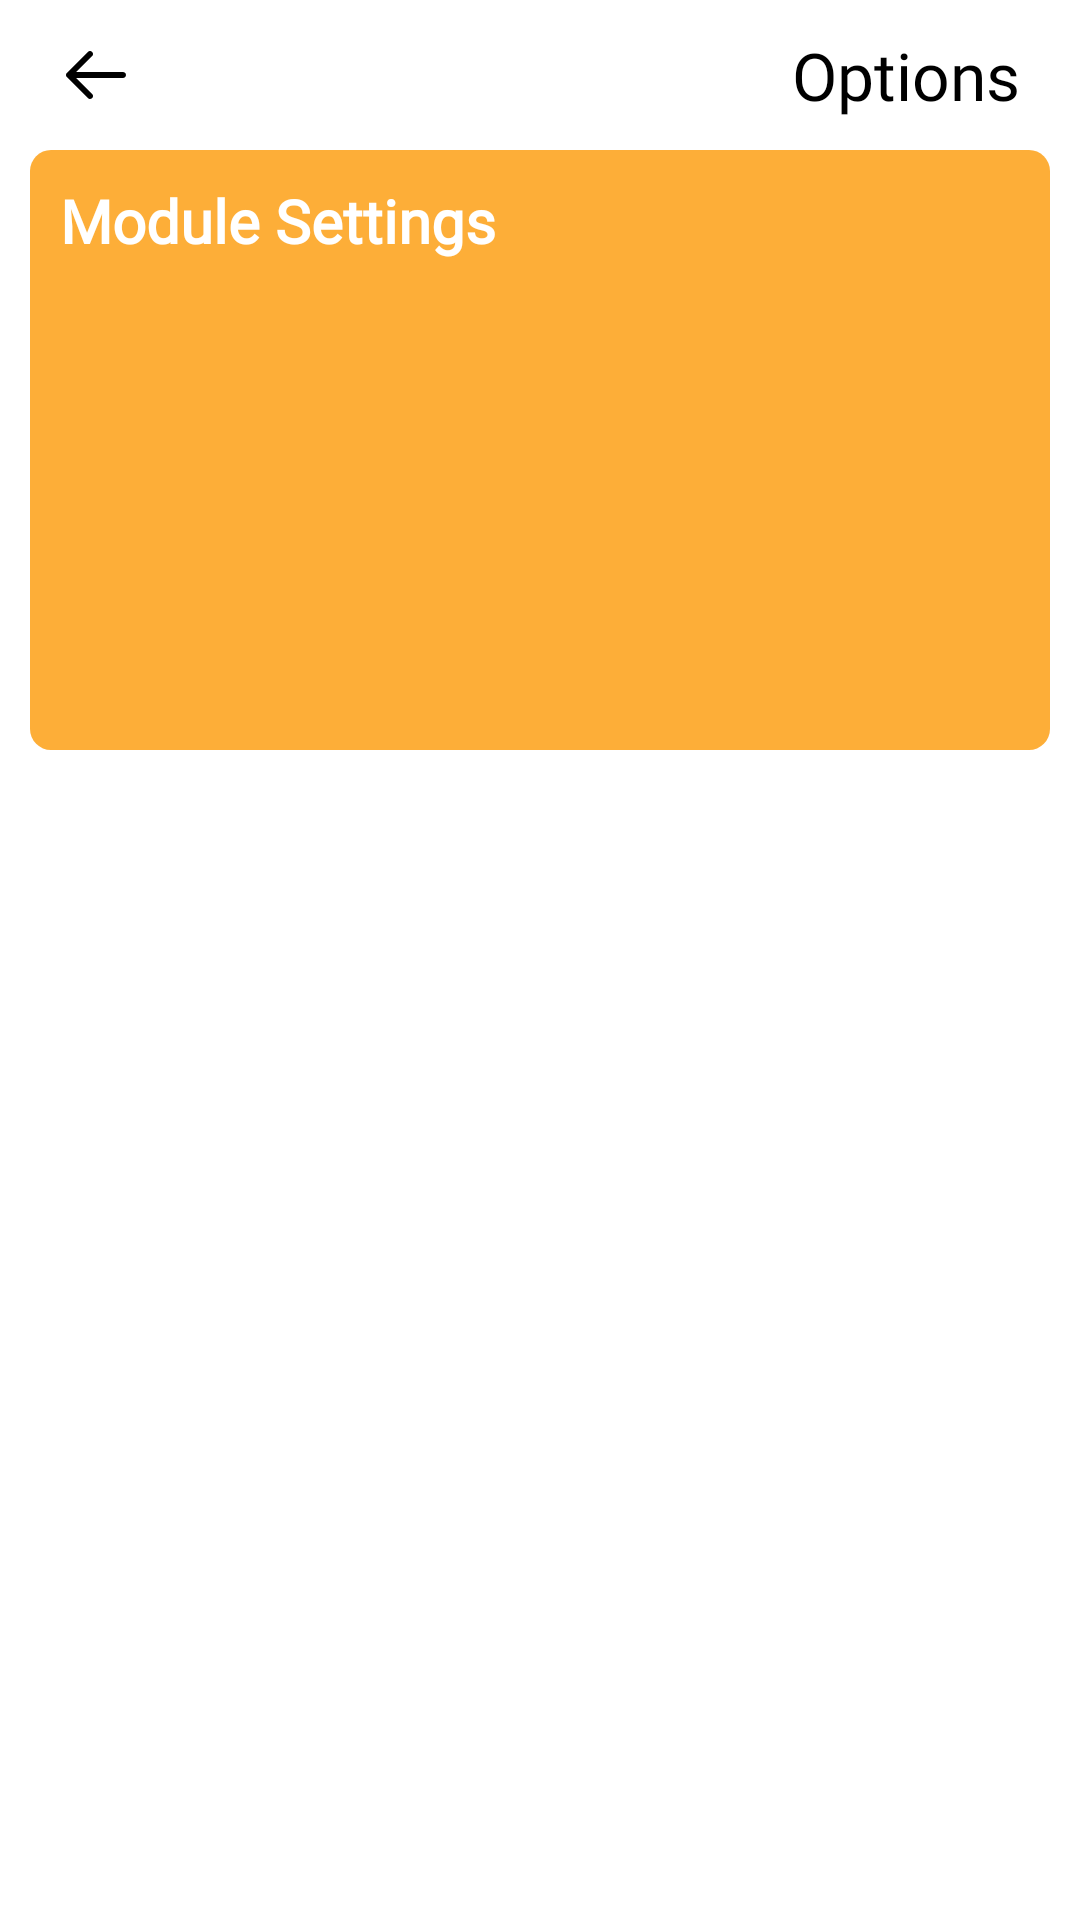

Point at icon controls on the screen. Image size 1080 × 1920, points as [x,y].
arrow left: [96,75]
